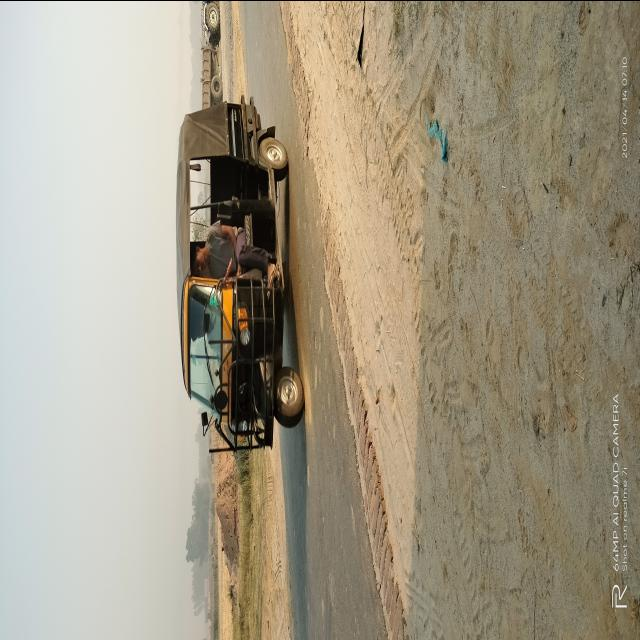Autorickshaw: (174, 93, 312, 466)
